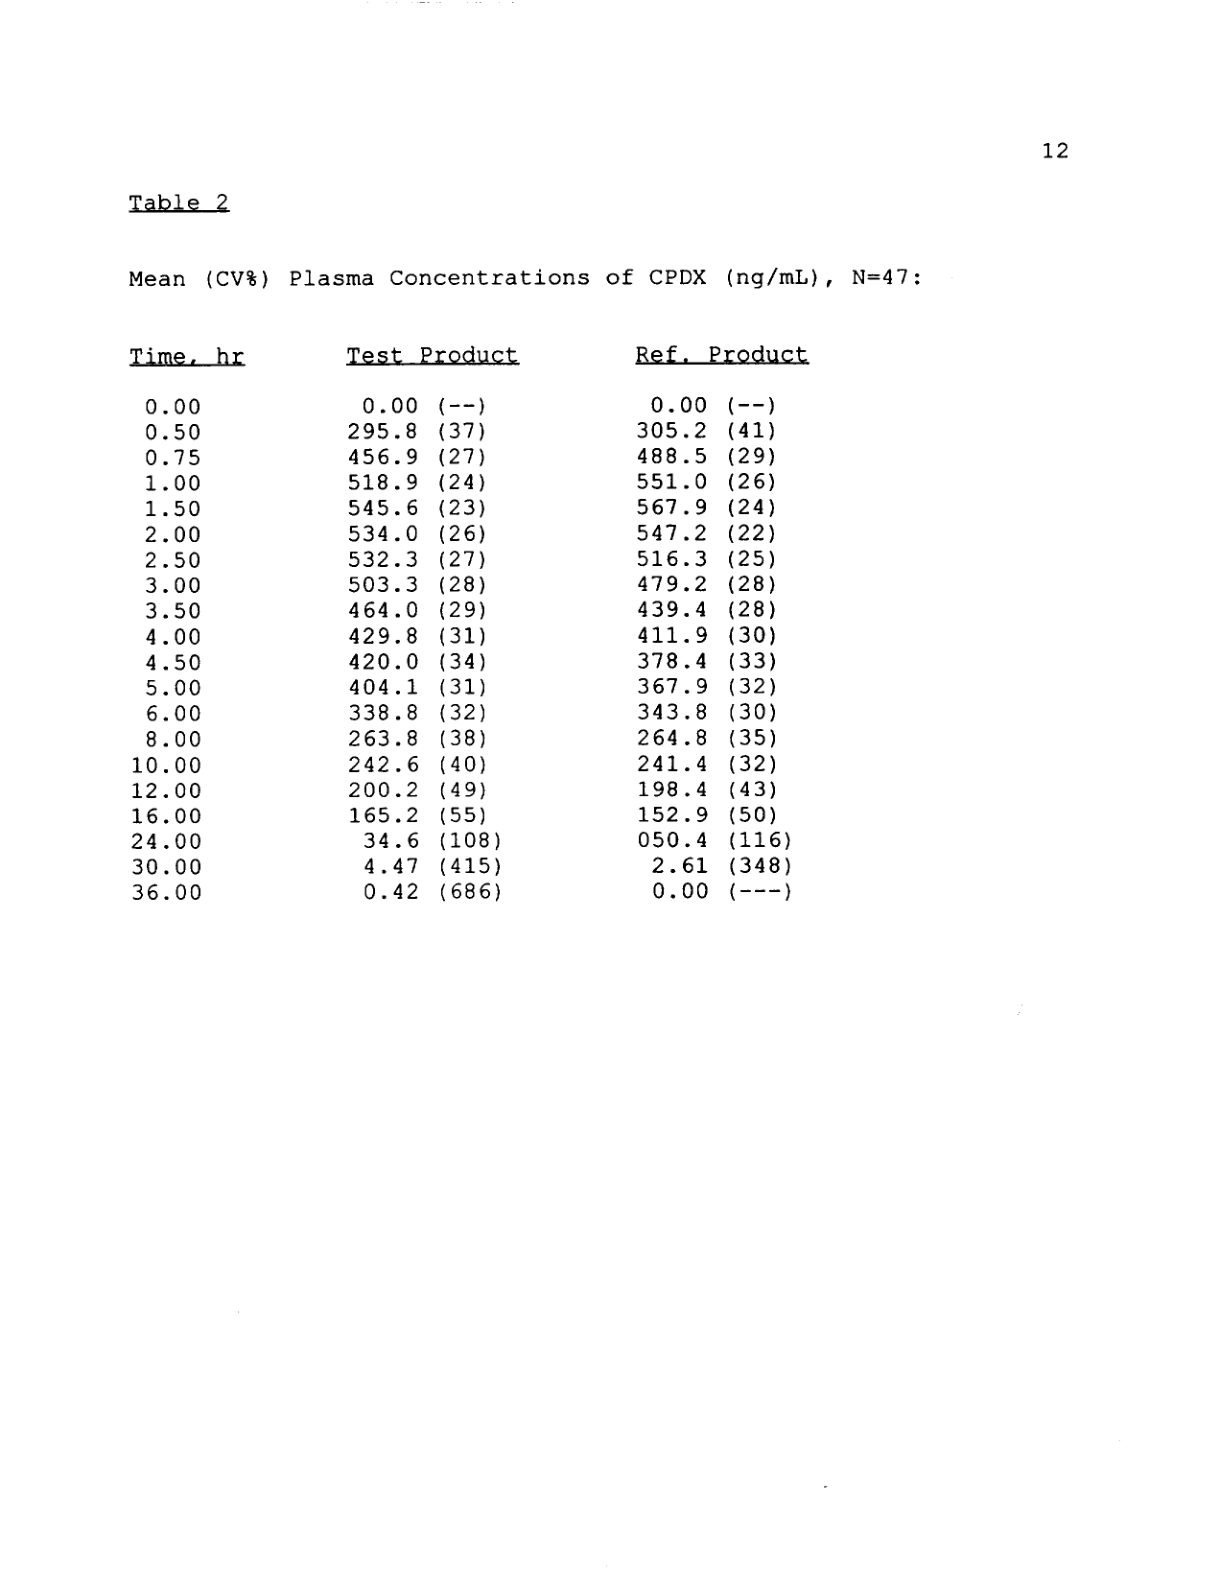nolines: (127, 343, 813, 907)
